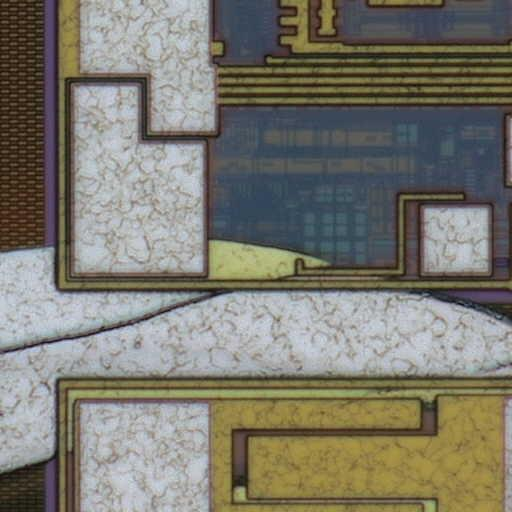COATING BAD: (1, 235, 512, 483)
